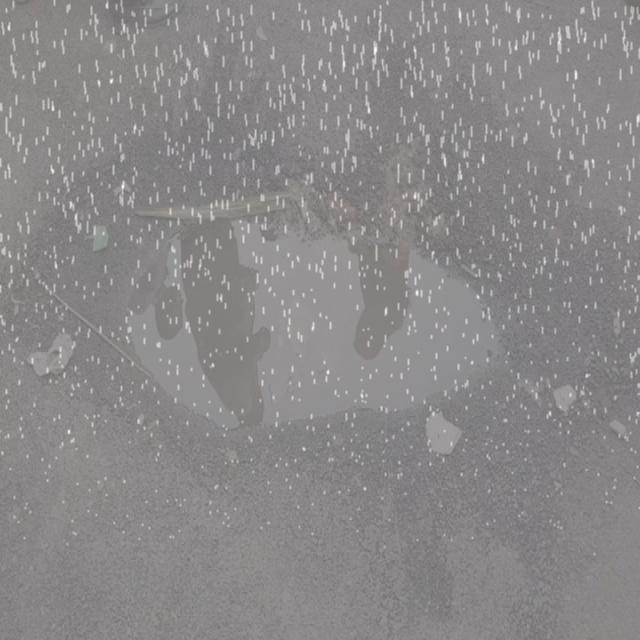Pothole: (130, 188, 522, 428), (418, 404, 478, 466)
